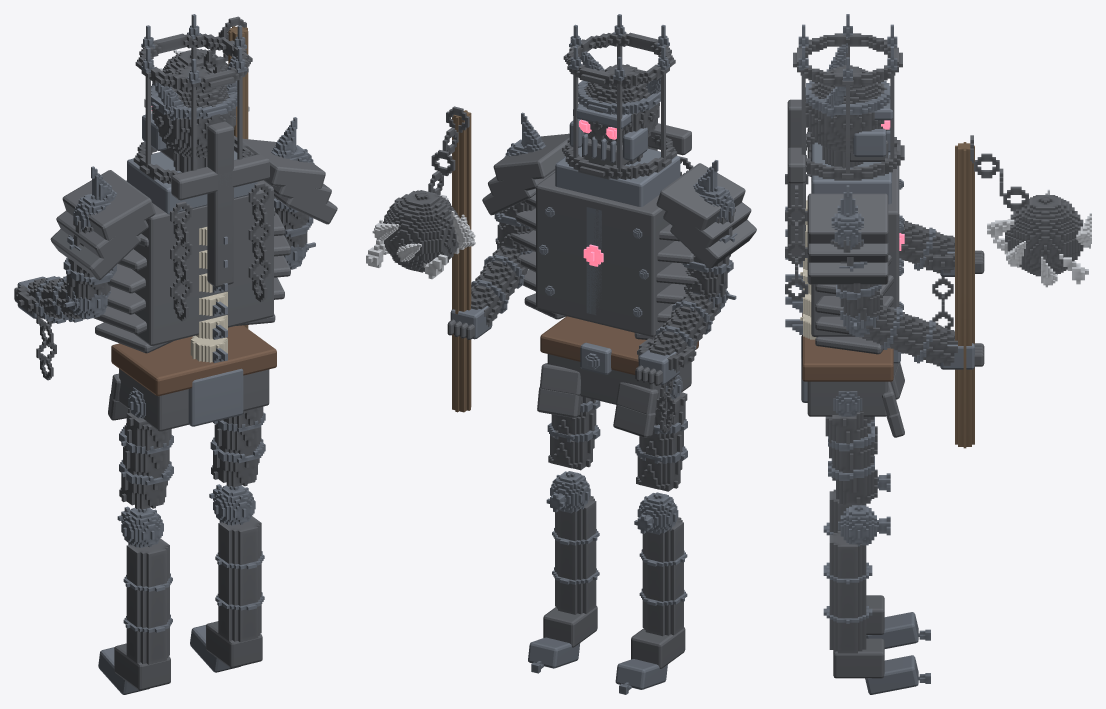
File: enemy_iron_penitent.glb
The picture shows the model from 3 angles, left to right: view 1: azimuth 30°, elevation 25°; view 2: azimuth 150°, elevation 25°; view 3: azimuth 270°, elevation 25°; orthographic projection. The views are drawn at different scales.
Visible parts, largest first — view 1: Torso, Pelvis, Head, SecondaryProp, ShinR, ShinL, ThighL, ForearmL, ThighR, ForearmR, UpperArmL, UpperArmR; view 2: Torso, ForearmR, Head, Pelvis, ShinL, ShinR, ForearmL, ThighL, ThighR, UpperArmL, UpperArmR, SecondaryProp; view 3: ForearmR, Torso, Head, ShinR, Pelvis, ThighR, SecondaryProp, ForearmL, ShinL, UpperArmR.
Part boxes in pixels (box(x1,y1,x2,y2)): Torso: box(50, 117, 337, 363); Pelvis: box(108, 325, 276, 431); Head: box(133, 14, 254, 183); SecondaryProp: box(170, 121, 271, 321); ShinR: box(190, 484, 264, 672); ShinL: box(98, 506, 172, 694); ThighL: box(119, 387, 173, 509); ForearmL: box(14, 276, 110, 380); ThighR: box(210, 406, 265, 487); ForearmR: box(144, 16, 315, 328); UpperArmL: box(63, 194, 116, 300); UpperArmR: box(274, 145, 314, 248); Torso: box(482, 112, 756, 339); ForearmR: box(366, 106, 532, 412); Head: box(562, 14, 677, 179); Pelvis: box(537, 316, 698, 437); ShinL: box(615, 492, 687, 694); ShinR: box(528, 471, 599, 673); ForearmL: box(635, 289, 736, 433); ThighL: box(635, 375, 687, 491); ThighR: box(547, 396, 600, 470); UpperArmL: box(682, 186, 737, 297); UpperArmR: box(494, 139, 535, 251); SecondaryProp: box(648, 123, 693, 176); ForearmR: box(840, 135, 1091, 448); Torso: box(785, 128, 904, 354); Head: box(793, 14, 904, 180); ShinR: box(823, 505, 930, 694); Pelvis: box(801, 312, 904, 437); ThighR: box(825, 391, 877, 505); SecondaryProp: box(785, 99, 808, 300); ForearmL: box(899, 214, 984, 329); ShinL: box(823, 473, 930, 648); UpperArmR: box(830, 212, 882, 321).
Bounding box in the file's own units: 0.842 × 1.9 × 0.8392.
